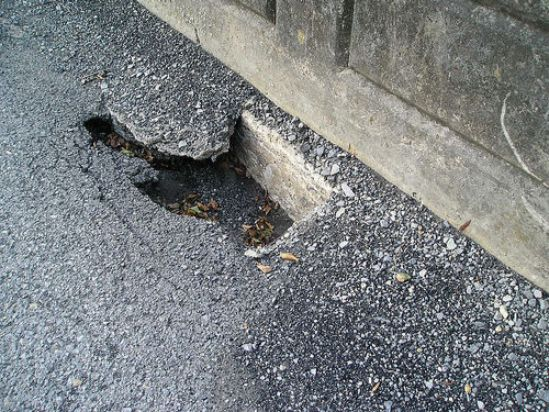pothole: (76, 103, 332, 265)
